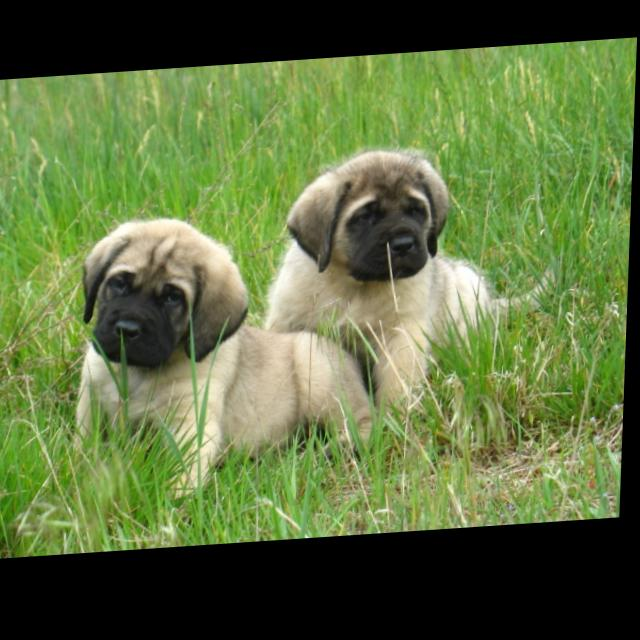mastiff: (76, 207, 386, 509), (265, 145, 567, 434)
